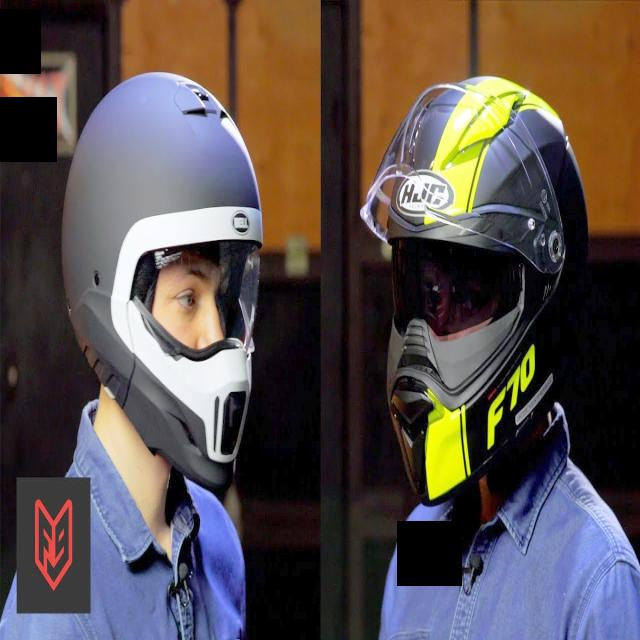Helmet: (361, 78, 588, 504), (62, 73, 262, 496)
